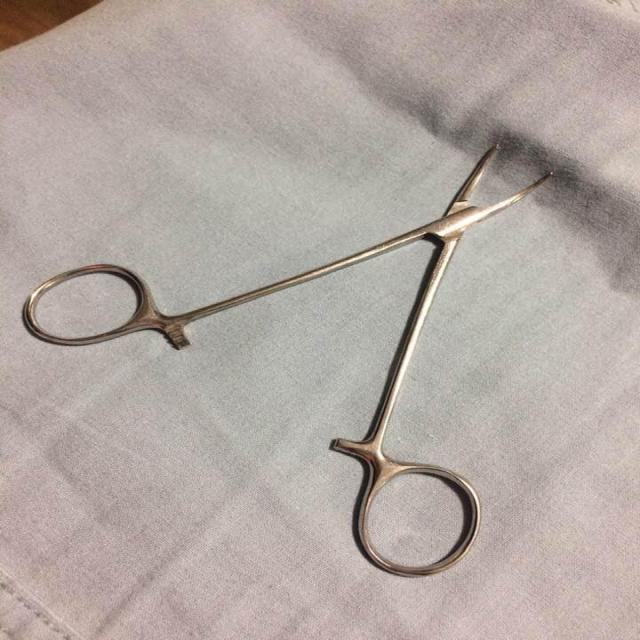Hemostat: (16, 130, 558, 580)
